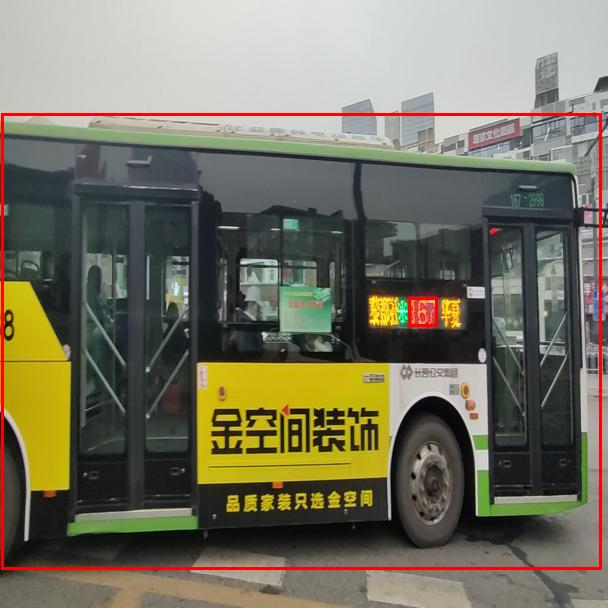bus: (1, 113, 601, 569)
screen: (408, 297, 437, 326)
